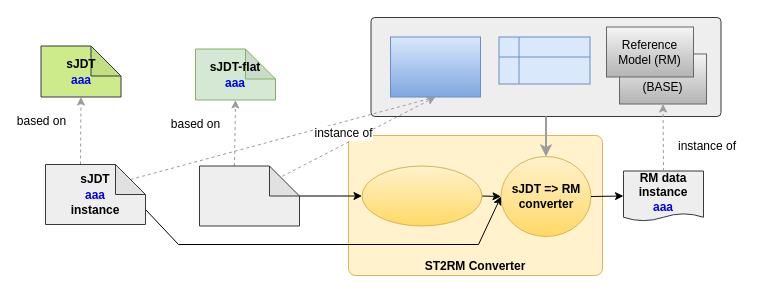
The diagram is 764 pixels wide and 293 high, and some of its shapes have lost their labels. The shapes that lost their labels are listed below. From the top down, each one's centre as x and y in pixels, then its label:
(435,66): Simplified Information Model (SIM)
(544,60): Transformation rules
(249,195): sJDT-flat aaa instance
(421,195): JSON flat => JSON converter
